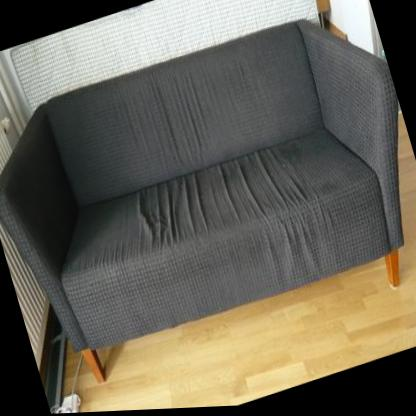Sofa: (0, 0, 416, 405)
Wooden floor: (81, 287, 385, 413)
